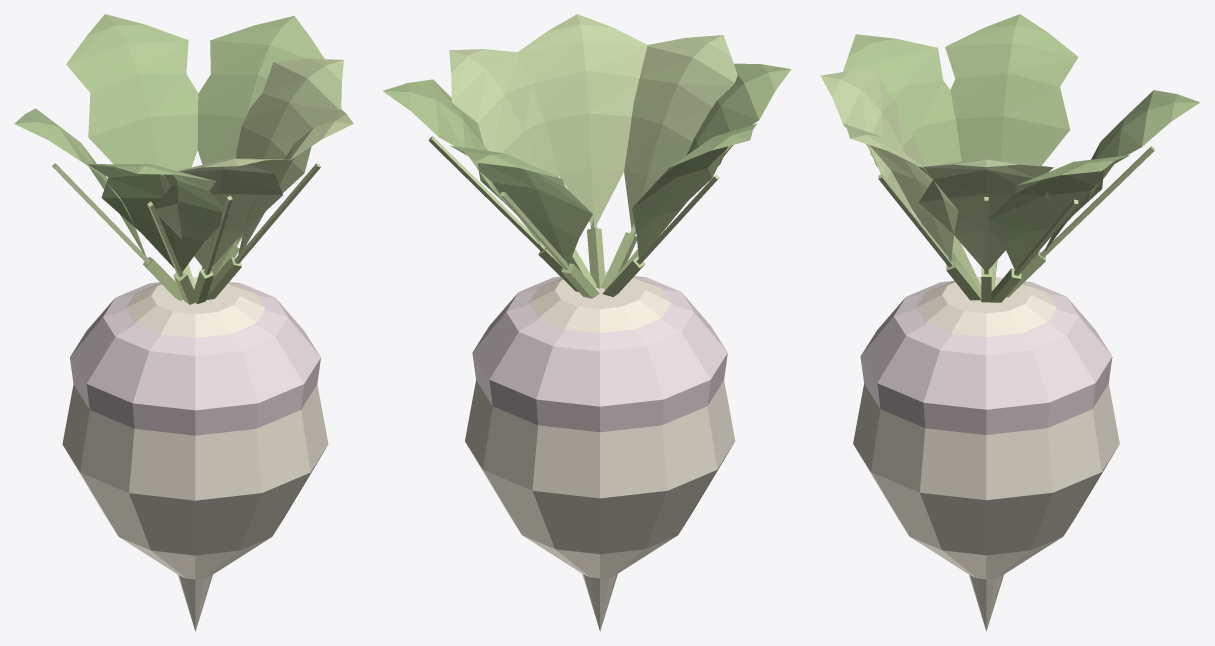
The model's file is crafted-crop-turnip-harvest.glb.
The picture shows the model from 3 angles, left to right: view 1: azimuth 30°, elevation 25°; view 2: azimuth 150°, elevation 25°; view 3: azimuth 270°, elevation 25°; orthographic projection.
Visible parts, largest first — view 1: underground-root, root-shoulder, turnip-leaf-2, turnip-leaf-5, turnip-leaf, turnip-leaf-1, turnip-leaf-6, root-crown, turnip-leaf-4, turnip-leaf-3, leaf-vein-3, leaf-vein-4 (+4 smaller); view 2: underground-root, root-shoulder, turnip-leaf-3, turnip-leaf-6, turnip-leaf, turnip-leaf-2, root-crown, turnip-leaf-4, turnip-leaf-1, turnip-leaf-5, leaf-vein-5, leaf-stalk-3 (+5 smaller); view 3: underground-root, root-shoulder, turnip-leaf-4, turnip-leaf-1, turnip-leaf, turnip-leaf-5, root-crown, turnip-leaf-6, turnip-leaf-2, turnip-leaf-3, leaf-vein-2, leaf-vein-3 (+3 smaller).
Part boxes in pixels (x1,y1,x2,y2): underground-root: (62,384,328,631); root-shoulder: (70,282,320,435); turnip-leaf-2: (66,14,198,170); turnip-leaf-5: (197,16,324,164); turnip-leaf: (236,58,343,242); turnip-leaf-1: (87,164,229,271); turnip-leaf-6: (154,158,293,269); root-crown: (125,277,265,337); turnip-leaf-4: (14,108,146,257); turnip-leaf-3: (237,109,353,258); leaf-vein-3: (234,163,320,263); leaf-vein-4: (52,163,150,263); underground-root: (465,380,735,631); root-shoulder: (472,276,727,432); turnip-leaf-3: (518,14,647,225); turnip-leaf-6: (624,35,737,230); turnip-leaf: (449,49,558,177); turnip-leaf-2: (450,145,592,265); root-crown: (529,271,671,332); turnip-leaf-4: (632,123,757,259); turnip-leaf-1: (686,63,791,201); turnip-leaf-5: (383,79,540,245); leaf-vein-5: (428,136,545,251); leaf-stalk-3: (587,228,605,288); underground-root: (853,383,1119,631); root-shoulder: (860,280,1112,434); turnip-leaf-4: (945,14,1078,165); turnip-leaf-1: (843,34,961,166); turnip-leaf: (919,159,1053,269); turnip-leaf-5: (988,155,1129,271); root-crown: (916,276,1056,337); turnip-leaf-6: (820,71,923,212); turnip-leaf-2: (1044,90,1200,252); turnip-leaf-3: (843,123,958,262); leaf-vein-2: (1040,146,1154,257); leaf-vein-3: (878,174,952,267).
Size of the model in its own units: 0.5017 by 0.8 by 0.5129.
